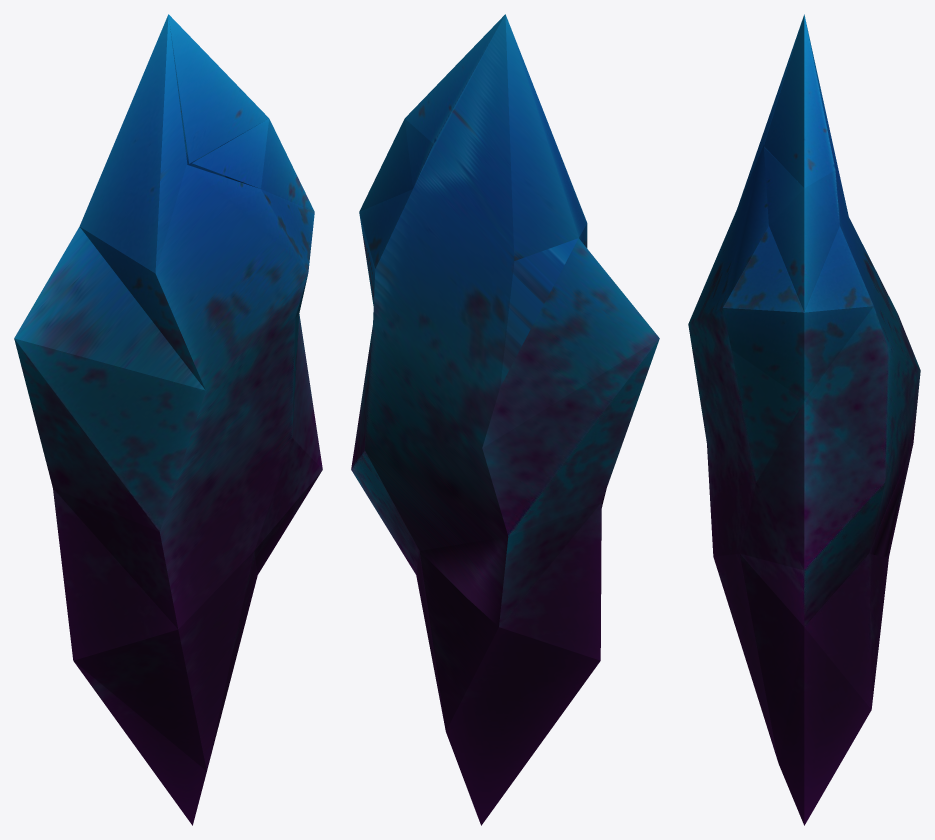
File: cristal.fbx
3 renders of one model, left to right at view 1: azimuth 30°, elevation 25°; view 2: azimuth 150°, elevation 25°; view 3: azimuth 270°, elevation 25°, orthographic. The views are drawn at different scales.
Visible parts, largest first — view 1: GiantCrystal; view 2: GiantCrystal; view 3: GiantCrystal.
Boxes of the visible parts, x1=… form: GiantCrystal: x1=14, y1=14, x2=322, y2=825; GiantCrystal: x1=351, y1=14, x2=659, y2=825; GiantCrystal: x1=688, y1=14, x2=920, y2=825.
Size of the model in its own units: 79.01 by 200 by 52.64.
Materials: 1 (1 with a texture image).
